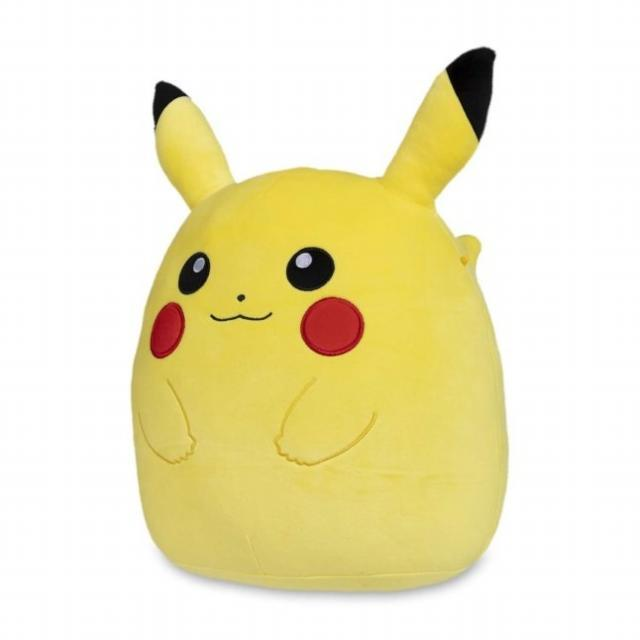Pikachu: (58, 60, 550, 488)
